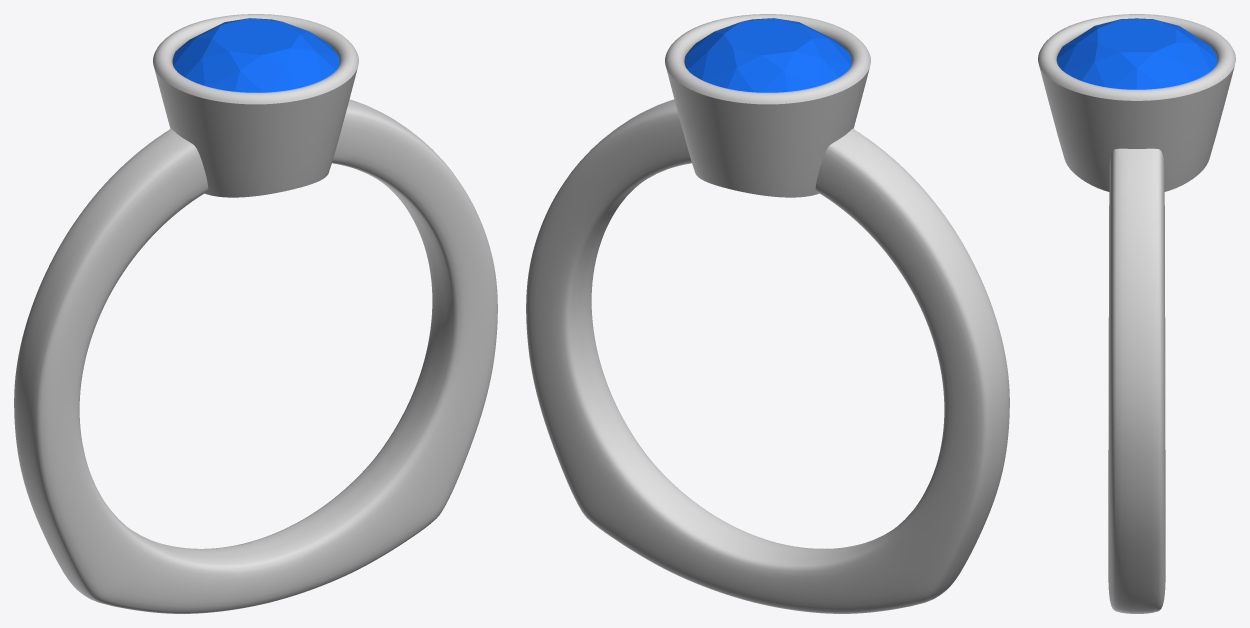
File: bluesapphire-round-platinum-bezelset-europeanshank-nosidestones.glb
3 renders of one model, left to right at view 1: azimuth 30°, elevation 25°; view 2: azimuth 150°, elevation 25°; view 3: azimuth 270°, elevation 25°, orthographic. The views are drawn at different scales.
Visible parts, largest first — view 1: Round European shank bezel, Roundstone; view 2: Round European shank bezel, Roundstone; view 3: Round European shank bezel, Roundstone.
Boxes of the visible parts, x1,y1,x2,y2 form: Round European shank bezel: (14, 14, 497, 613); Roundstone: (172, 18, 339, 92); Round European shank bezel: (526, 14, 1009, 613); Roundstone: (684, 18, 851, 92); Round European shank bezel: (1038, 14, 1235, 613); Roundstone: (1056, 18, 1217, 89).
Size of the model in its own units: 20.71 by 23.81 by 7.94.
